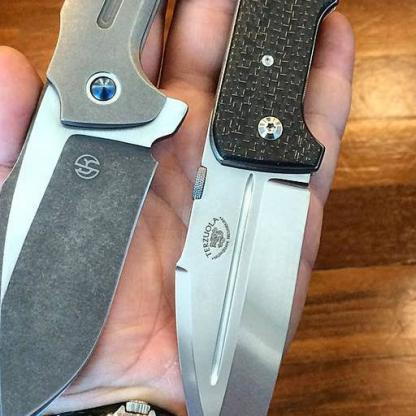knife: (0, 0, 280, 415), (170, 0, 374, 415)
